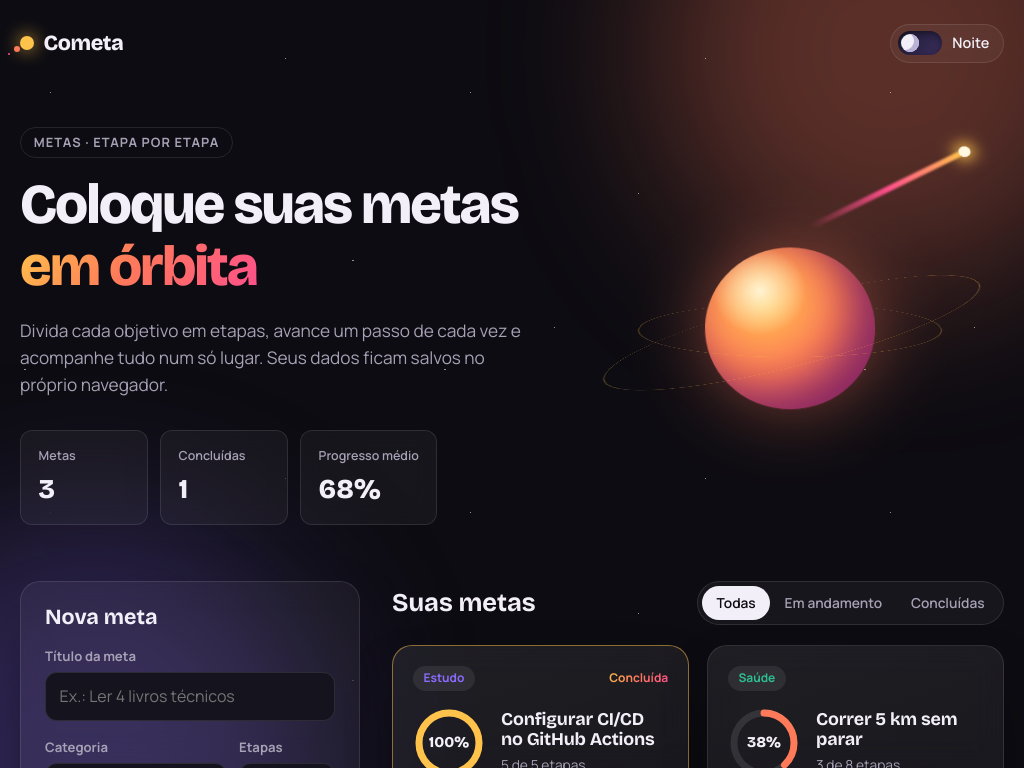
Scenario: App Cometa › mostra erro de validação quando o título é curto demais
The width and height of the screenshot is (1024, 768).
In the field labelled "Título da meta": (190, 696) 45,672 -> 335,721, type "Oi"
(page scrolled)
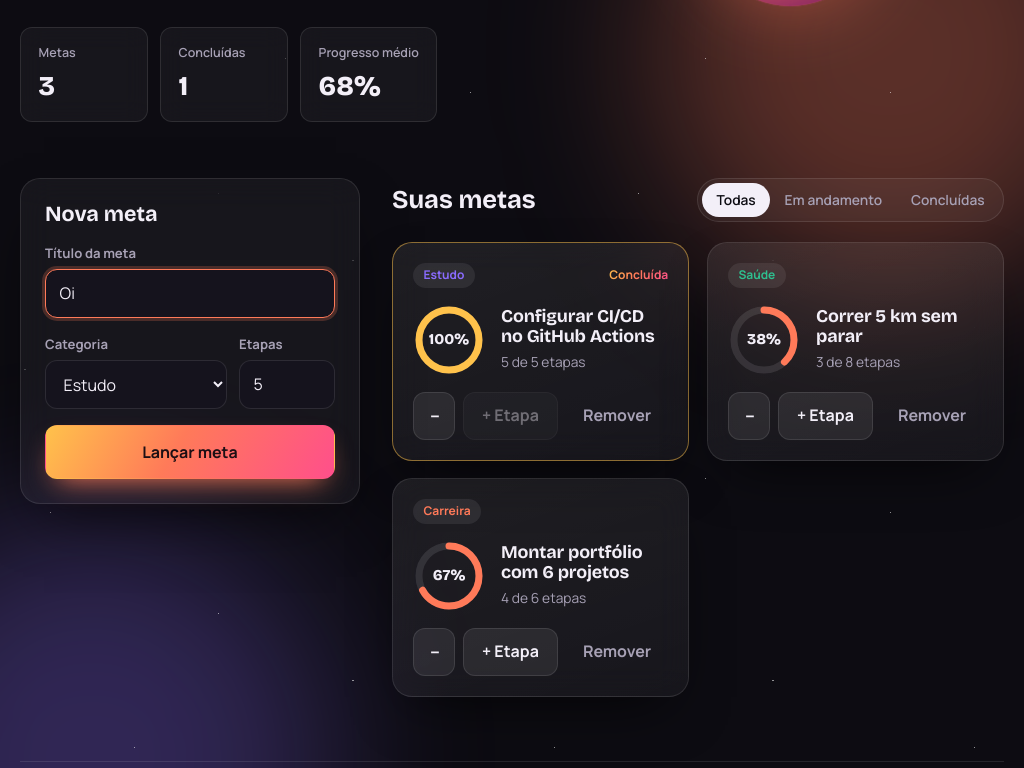
Select "Estudo" in the dropdown labelled "Categoria": (136, 385) 45,360 -> 227,409
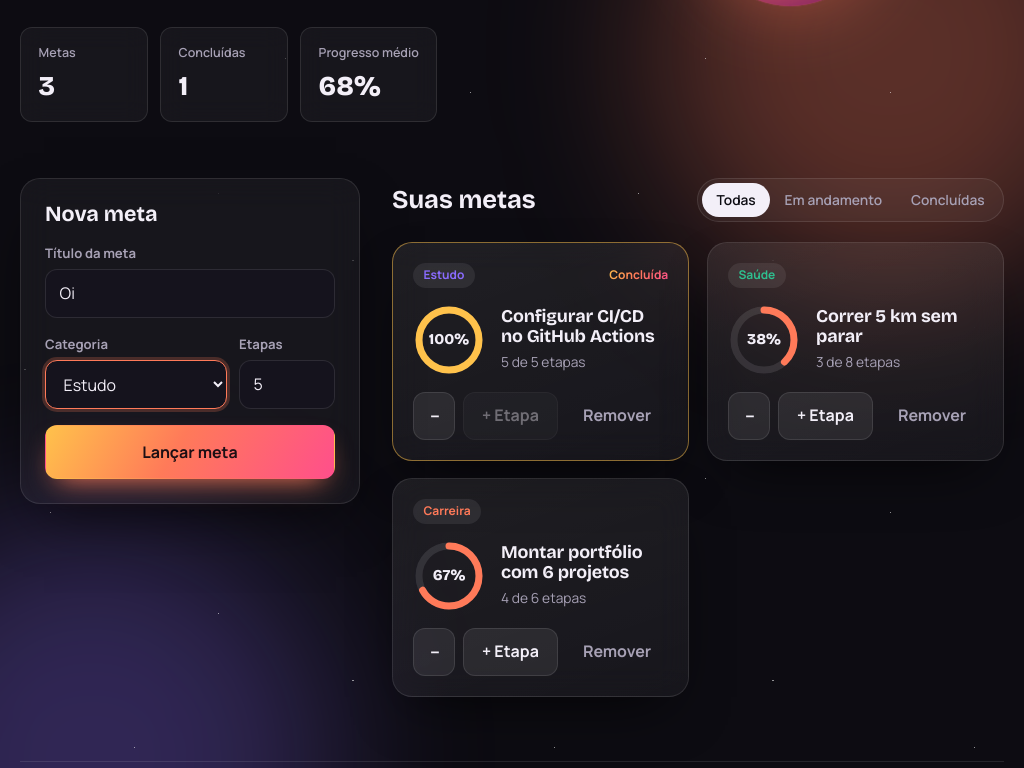
Replace the text in the number field labelled "Etapas" with "3": (287, 384) 239,360 -> 335,409
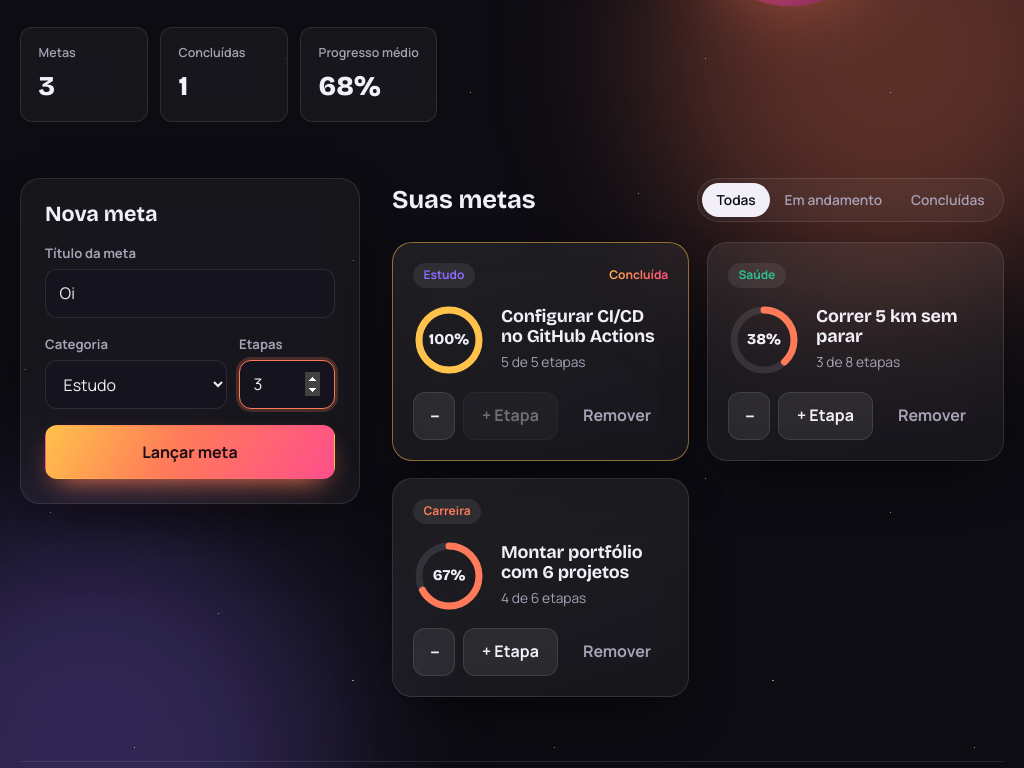
Click the button "Lançar meta": click(190, 452) 45,425 -> 335,479
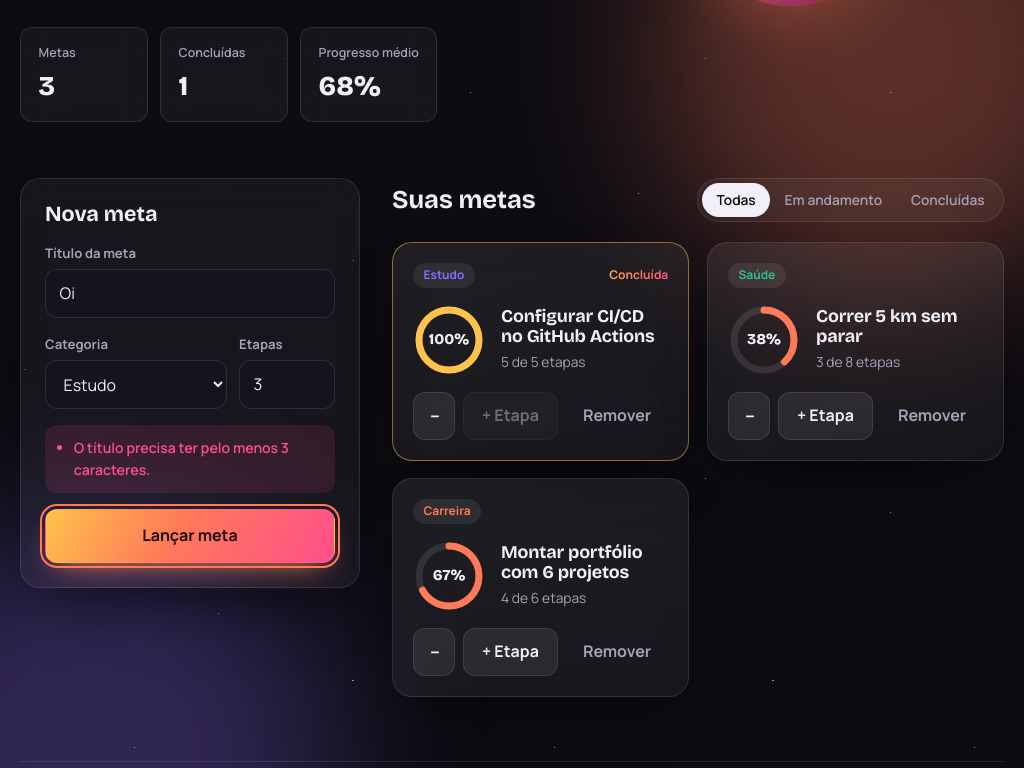
Now the message shows "pelo menos 3 caracteres", box 74,438 -> 289,479
